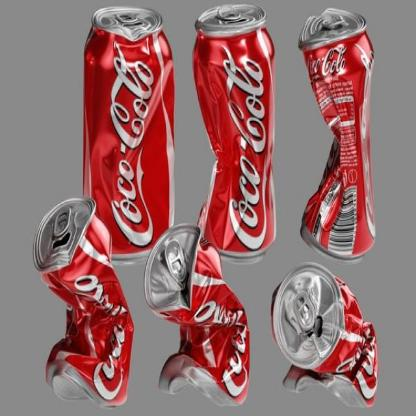Can: (183, 0, 287, 266), (79, 6, 183, 266), (144, 175, 258, 409), (30, 184, 134, 412), (292, 8, 382, 270), (270, 251, 388, 407)
